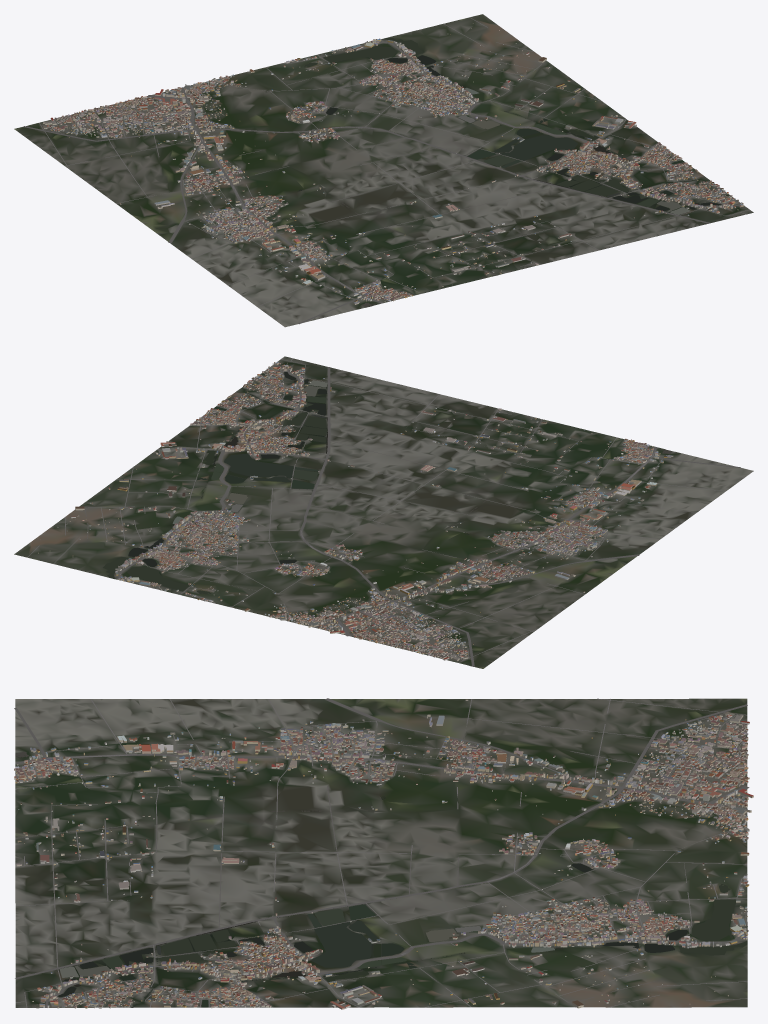
3 views of the same model, one above another, from view 1: azimuth 30°, elevation 25°; view 2: azimuth 150°, elevation 25°; view 3: azimuth 270°, elevation 25° (orthographic). The views are drawn at different scales.
Parts seen in each view (by area): view 1: ground, buildings, roads, water; view 2: ground, buildings, roads, water; view 3: ground, buildings, roads, water.
Part boxes in pixels (x1,y1,x2,y2): ground: [14, 14, 753, 327]; buildings: [43, 23, 743, 304]; roads: [23, 17, 749, 324]; water: [78, 37, 744, 307]; ground: [14, 356, 753, 668]; buildings: [38, 362, 673, 660]; roads: [27, 358, 740, 666]; water: [103, 362, 671, 641]; ground: [15, 698, 747, 1008]; buildings: [14, 699, 753, 1009]; roads: [14, 698, 749, 1007]; water: [15, 724, 747, 1007].
Size of the model in its own units: 2829 by 28.89 by 2834.
